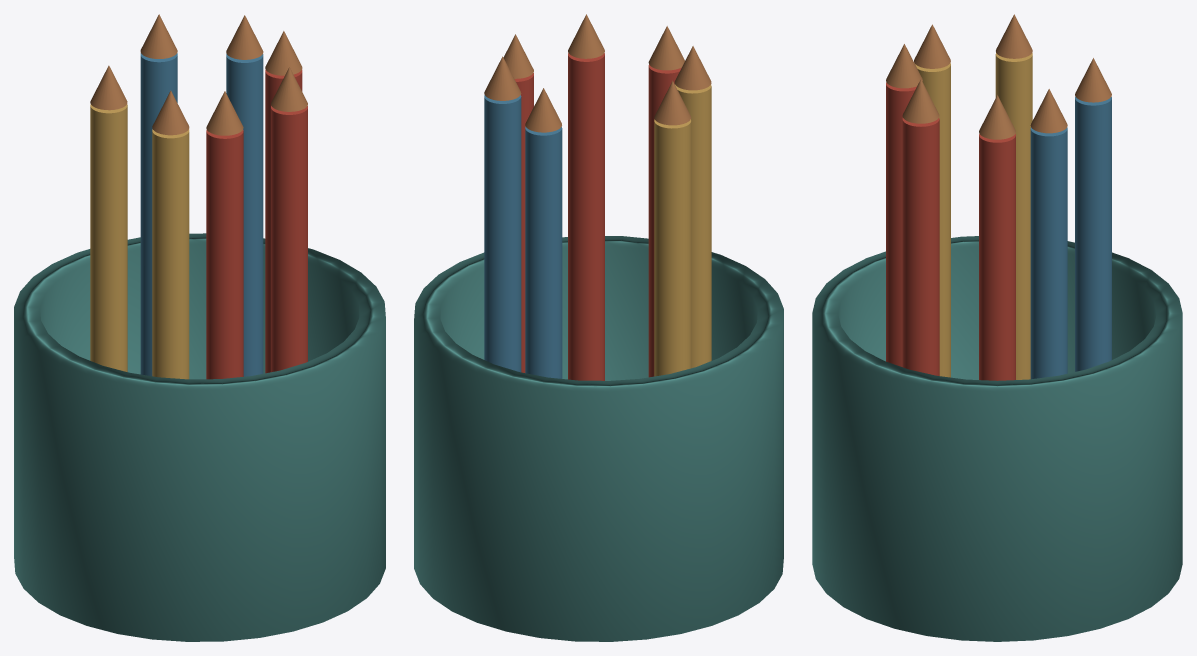
The model's file is wp-pot-a-crayons.glb.
The picture shows the model from 3 angles, left to right: view 1: azimuth 30°, elevation 25°; view 2: azimuth 150°, elevation 25°; view 3: azimuth 270°, elevation 25°; orthographic projection.
Parts seen in each view (by area): view 1: wp-pot-a-crayons; view 2: wp-pot-a-crayons; view 3: wp-pot-a-crayons.
Part boxes in pixels (x1=…): wp-pot-a-crayons: x1=14, y1=14, x2=385, y2=641; wp-pot-a-crayons: x1=414, y1=14, x2=783, y2=641; wp-pot-a-crayons: x1=812, y1=14, x2=1182, y2=641.
Bounding box in the file's own units: 0.1 × 0.16 × 0.1.
